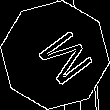M_SW: (21, 21, 89, 89)
